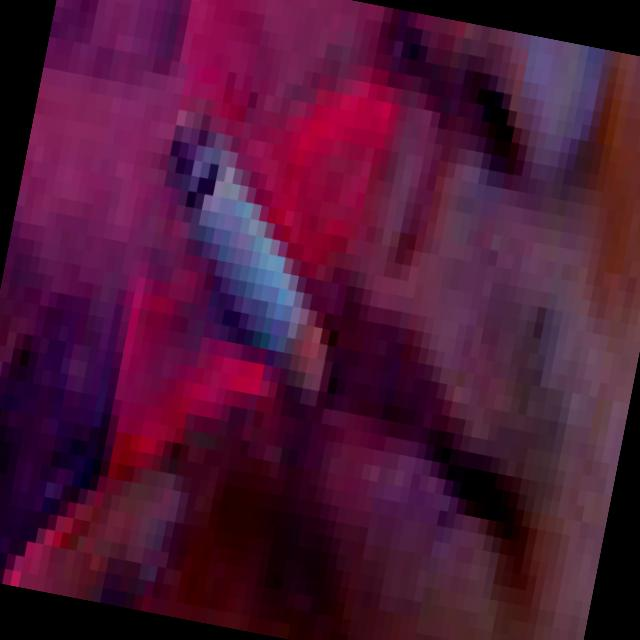smoke: (125, 103, 382, 418)
